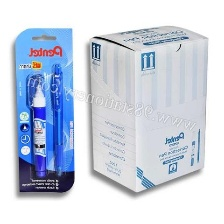book: (85, 22, 212, 195), (12, 25, 75, 194)
correction_fluid: (25, 72, 47, 178)
